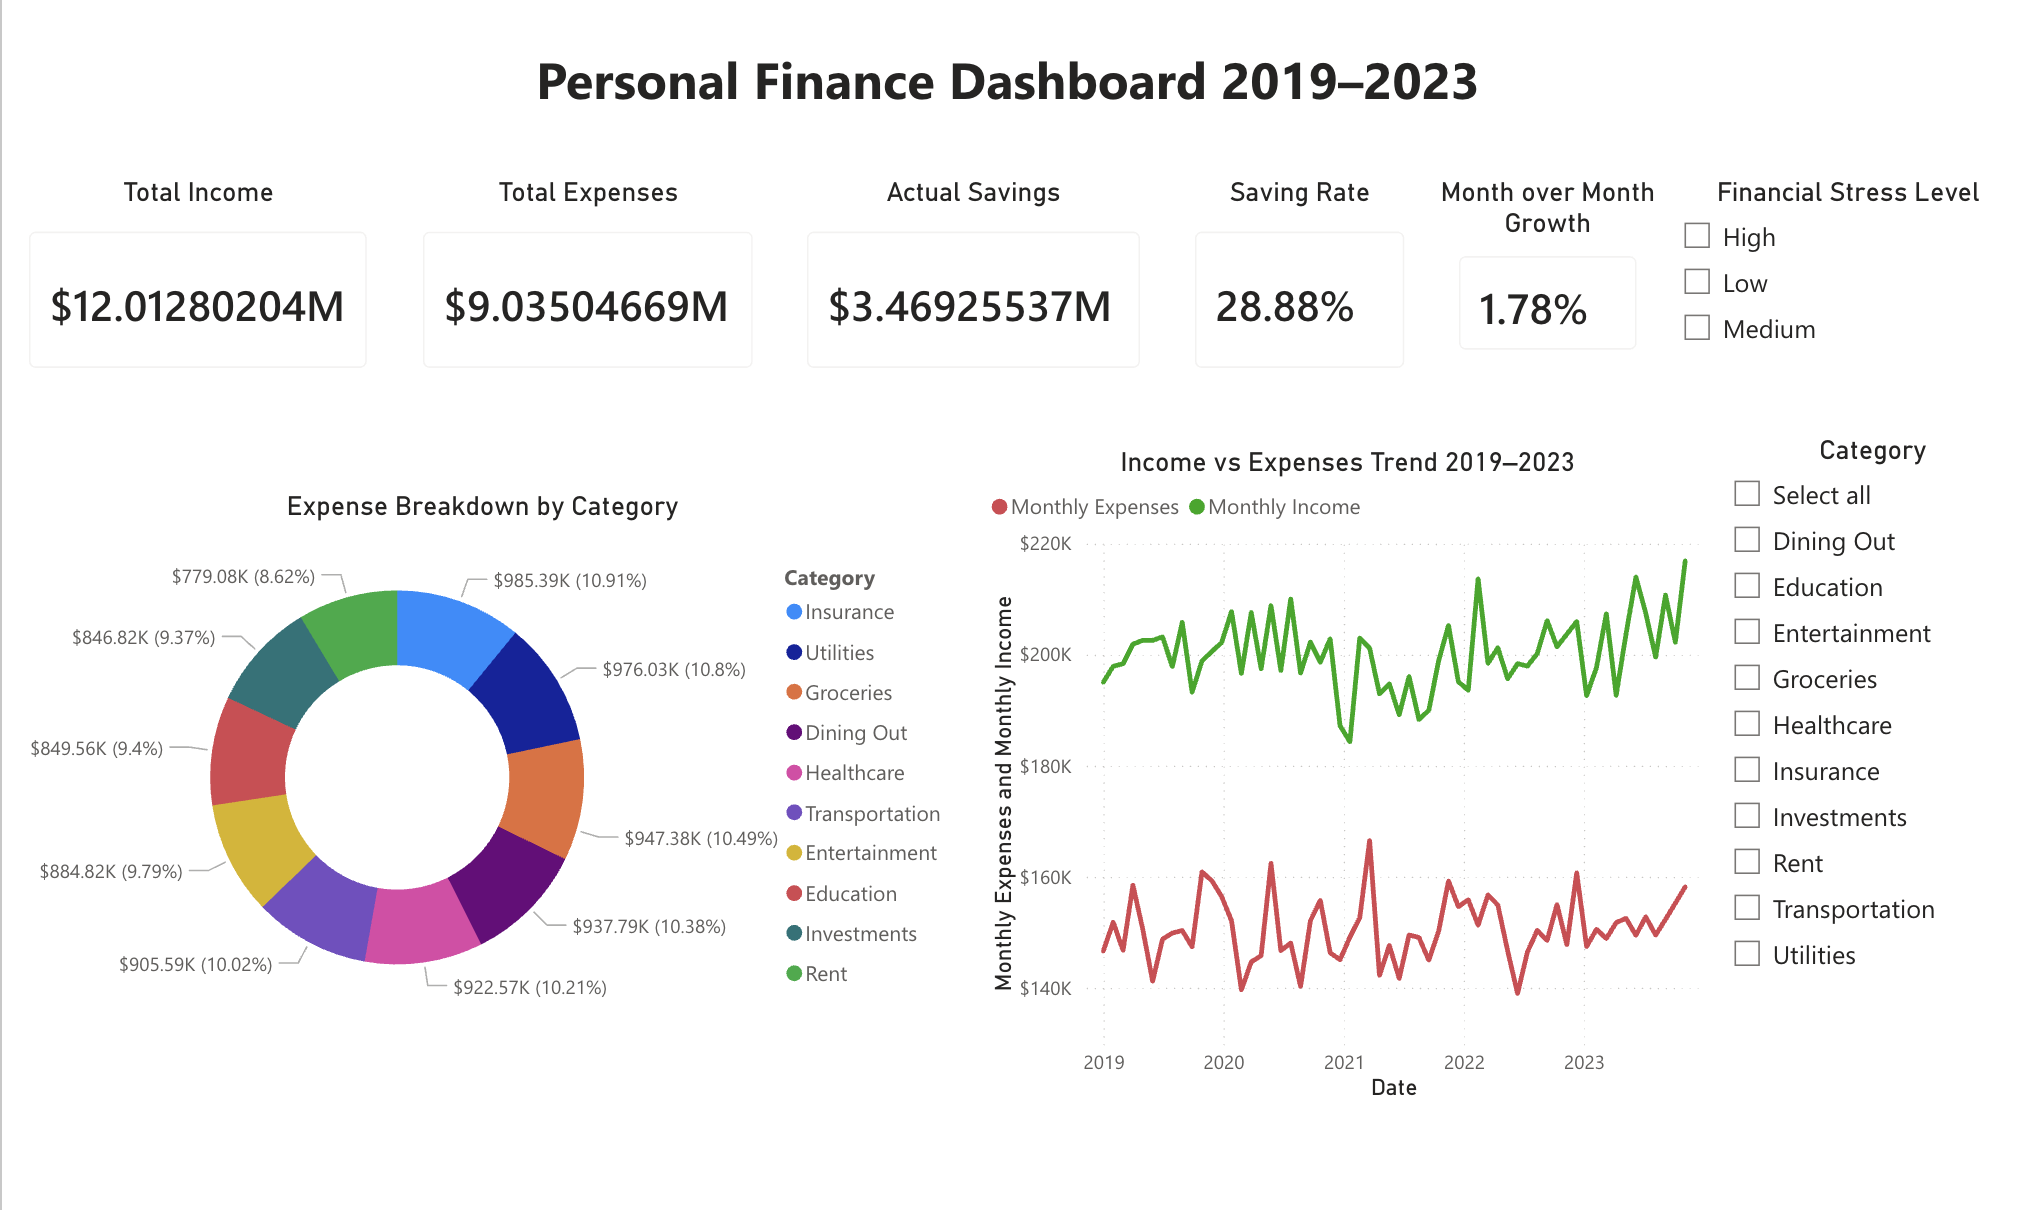

This screenshot's page, from the dashboard's own definition file:
{"tool":"powerbi","page":{"name":"Page 1","canvas":[1280,720],"ordinal":0},"visuals":[{"type":"cardVisual","title":"Total Income","fields":{"Data":["Sum(personal_finance_tracker_dataset 1.monthly_income)"]},"box":[0,113.1,247.9,136],"z":0},{"type":"cardVisual","title":"Actual Savings","fields":{"Data":["Sum(personal_finance_tracker_dataset 1.actual_savings)"]},"box":[490.6,113.1,244.1,136],"z":1000},{"type":"cardVisual","title":"Total Expenses","fields":{"Data":["Sum(personal_finance_tracker_dataset 1.monthly_expense_total)"]},"box":[247.9,113.1,242.8,136],"z":2000},{"type":"donutChart","title":"Expense Breakdown by Category","fields":{"Y":["Sum(personal_finance_tracker_dataset 1.monthly_expense_total)"],"Category":["personal_finance_tracker_dataset 1.category"]},"box":[0,311.4,606.3,341.9],"z":3000},{"type":"lineChart","title":"Income vs Expenses Trend 2019–2023","fields":{"Y":["Sum(personal_finance_tracker_dataset 1.monthly_expense_total)","Sum(personal_finance_tracker_dataset 1.monthly_income)"],"Category":["personal_finance_tracker_dataset 1.date"]},"box":[617.8,283.5,461.4,414.4],"z":4000},{"type":"slicer","title":"Financial Stress Level","fields":{"Values":["personal_finance_tracker_dataset 1.financial_stress_level"]},"box":[1047.4,113.1,232.6,162.7],"z":5000},{"type":"slicer","title":"Category","fields":{"Values":["personal_finance_tracker_dataset 1.category"]},"box":[1079.2,275.8,200.8,362.3],"z":6000},{"type":"textbox","box":[310.1,22.9,648.3,59.7],"z":7000},{"type":"cardVisual","title":"Saving Rate","fields":{"Data":["personal_finance_tracker_dataset 1.Saving Rate"]},"box":[734.7,113.1,166.5,136],"z":7001},{"type":"cardVisual","title":"Month over Month Growth","fields":{"Data":["personal_finance_tracker_dataset 1.MoM Growth"]},"box":[901.2,113.1,146.2,124.6],"z":7002}]}

Visuals, with their boxes on the page's 1280x720 design canvas (x1, y1, x2, y2). These are canvas units, not pixel positions in the 2030x1210 screenshot, which may show the page scaled, cropped or inside an application window:
"Total Income" cardVisual: box=[0, 113, 248, 249]
"Actual Savings" cardVisual: box=[491, 113, 735, 249]
"Total Expenses" cardVisual: box=[248, 113, 491, 249]
"Expense Breakdown by Category" donutChart: box=[0, 311, 606, 653]
"Income vs Expenses Trend 2019–2023" lineChart: box=[618, 284, 1079, 698]
"Financial Stress Level" slicer: box=[1047, 113, 1280, 276]
"Category" slicer: box=[1079, 276, 1280, 638]
textbox: box=[310, 23, 958, 83]
"Saving Rate" cardVisual: box=[735, 113, 901, 249]
"Month over Month Growth" cardVisual: box=[901, 113, 1047, 238]
